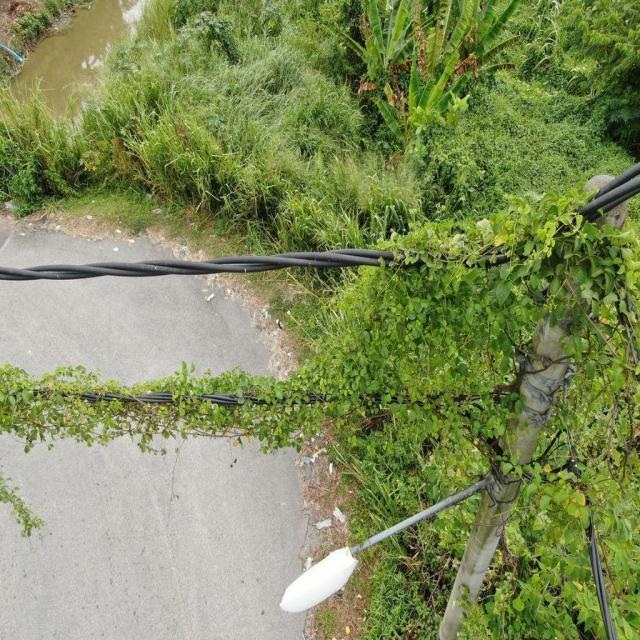critical vegetation: (0, 168, 640, 549)
